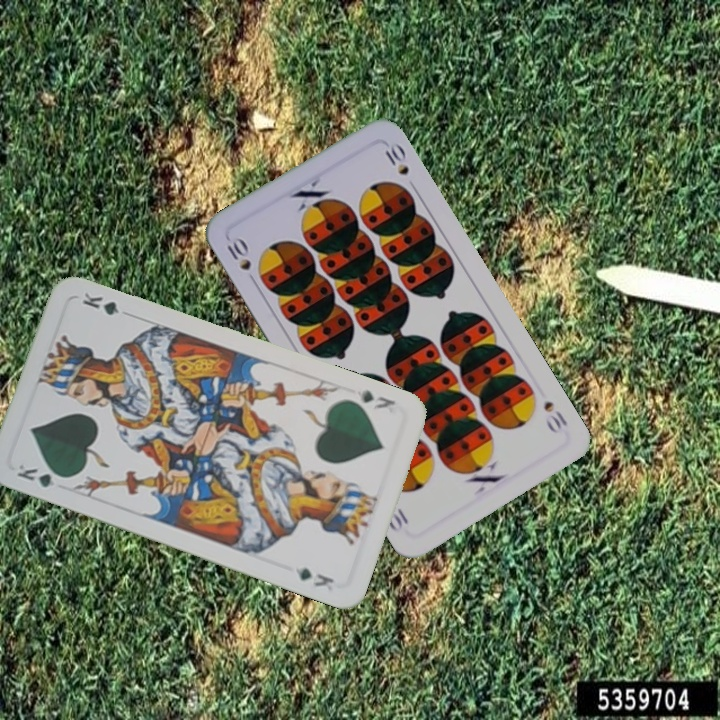GK: (13, 460, 71, 490), (353, 386, 398, 412)
S10: (539, 396, 571, 437), (223, 232, 254, 273)
